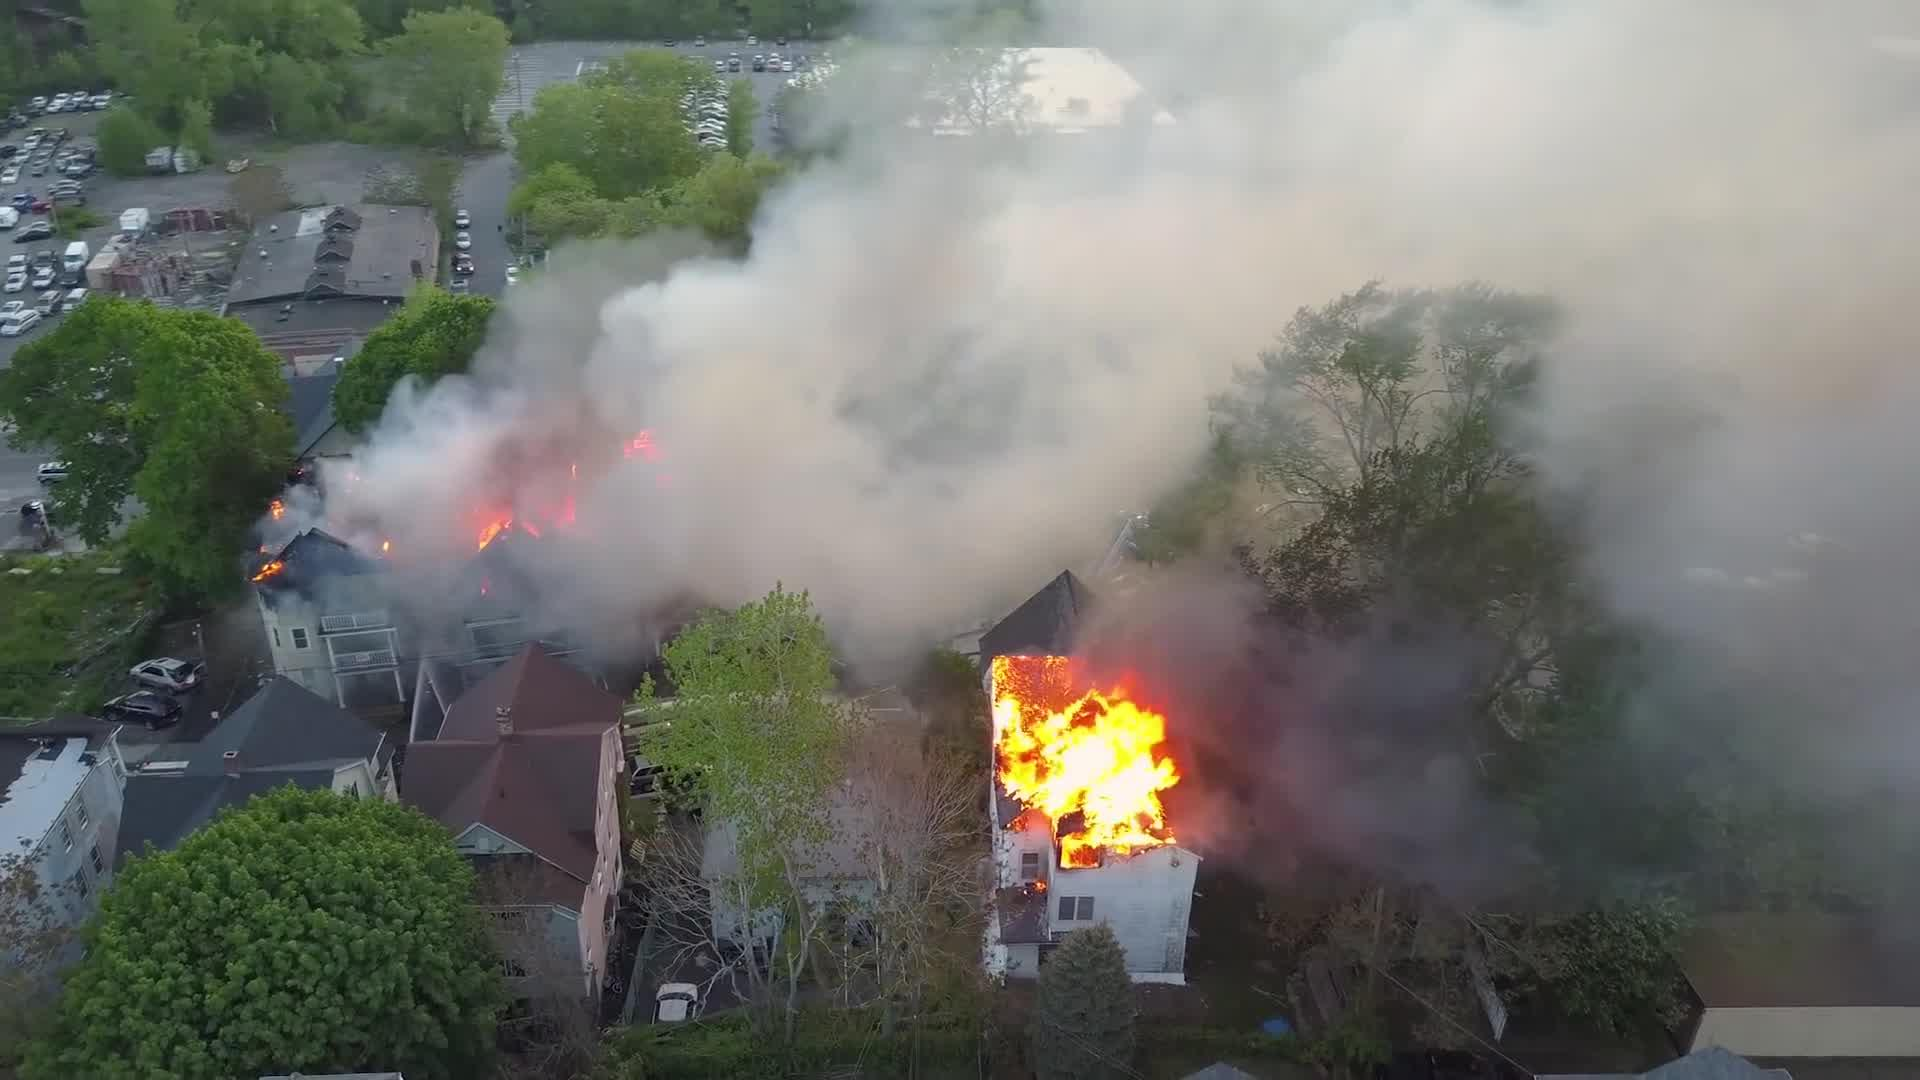fire: (988, 655, 1180, 869), (251, 559, 284, 584), (476, 521, 502, 550), (269, 500, 285, 516)
smoke: (761, 0, 1920, 290), (1522, 293, 1920, 786), (654, 294, 1311, 582), (318, 235, 654, 671), (1187, 583, 1516, 913), (811, 585, 949, 687), (1069, 584, 1184, 691), (655, 218, 762, 289), (256, 475, 315, 549)
